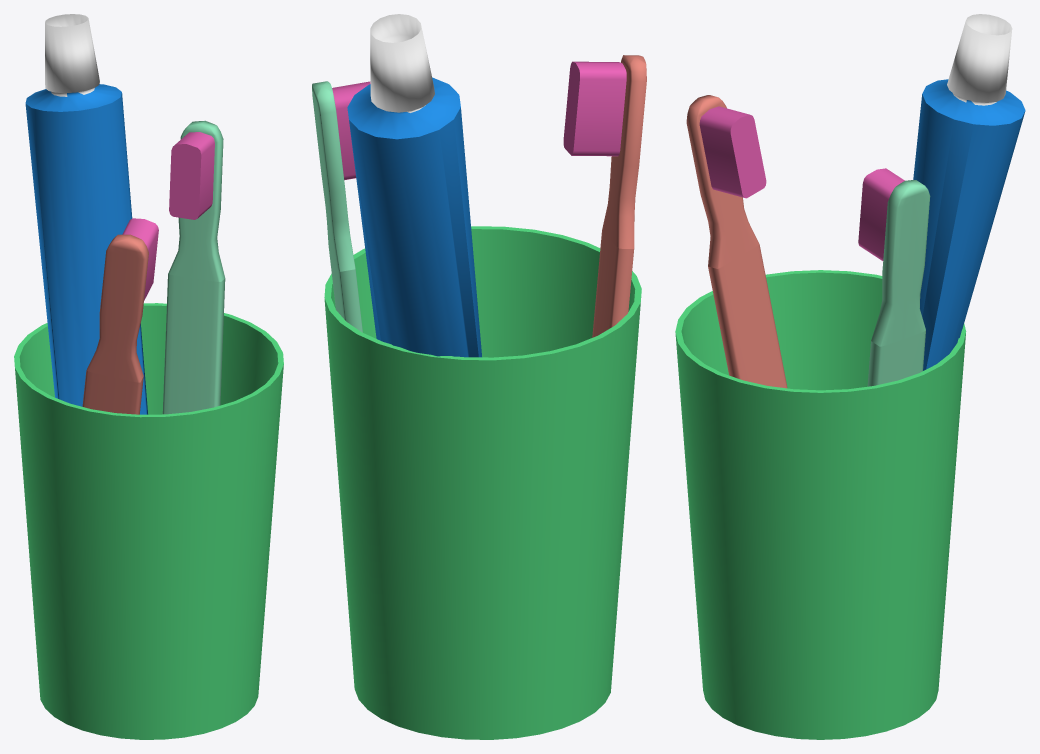
File: tooth.fbx
The picture shows the model from 3 angles, left to right: view 1: azimuth 30°, elevation 25°; view 2: azimuth 150°, elevation 25°; view 3: azimuth 270°, elevation 25°; orthographic projection. The views are drawn at different scales.
Parts seen in each view (by area): view 1: potBrossesADent; view 2: potBrossesADent; view 3: potBrossesADent.
Boxes of the visible parts, bbox=[...] form: potBrossesADent: bbox=[14, 14, 283, 739]; potBrossesADent: bbox=[312, 14, 646, 739]; potBrossesADent: bbox=[675, 14, 1025, 739].
Bounding box in the file's own units: 7.2 × 18.23 × 8.67.
